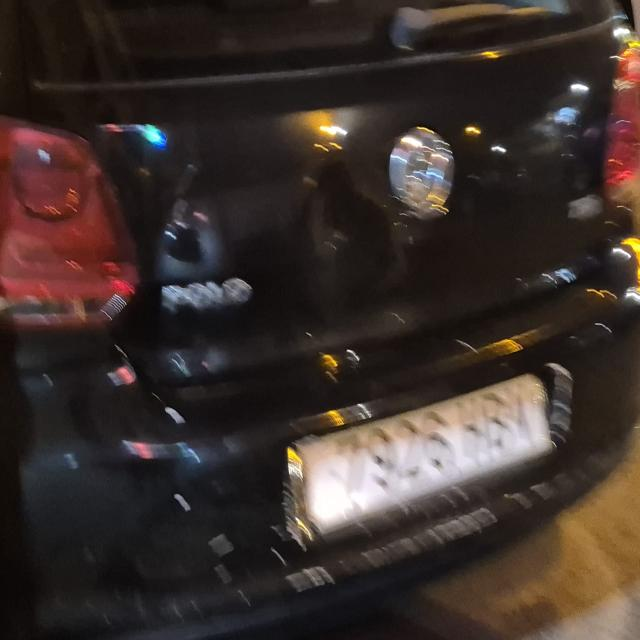license_plate-34Td: (284, 364, 572, 544)
